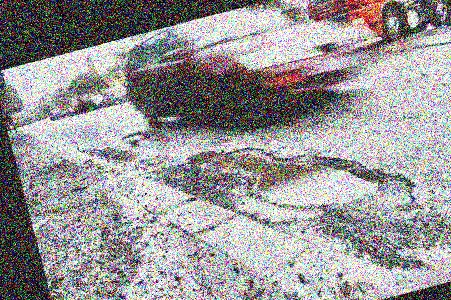pothole: (180, 104, 390, 241), (119, 126, 152, 149)
